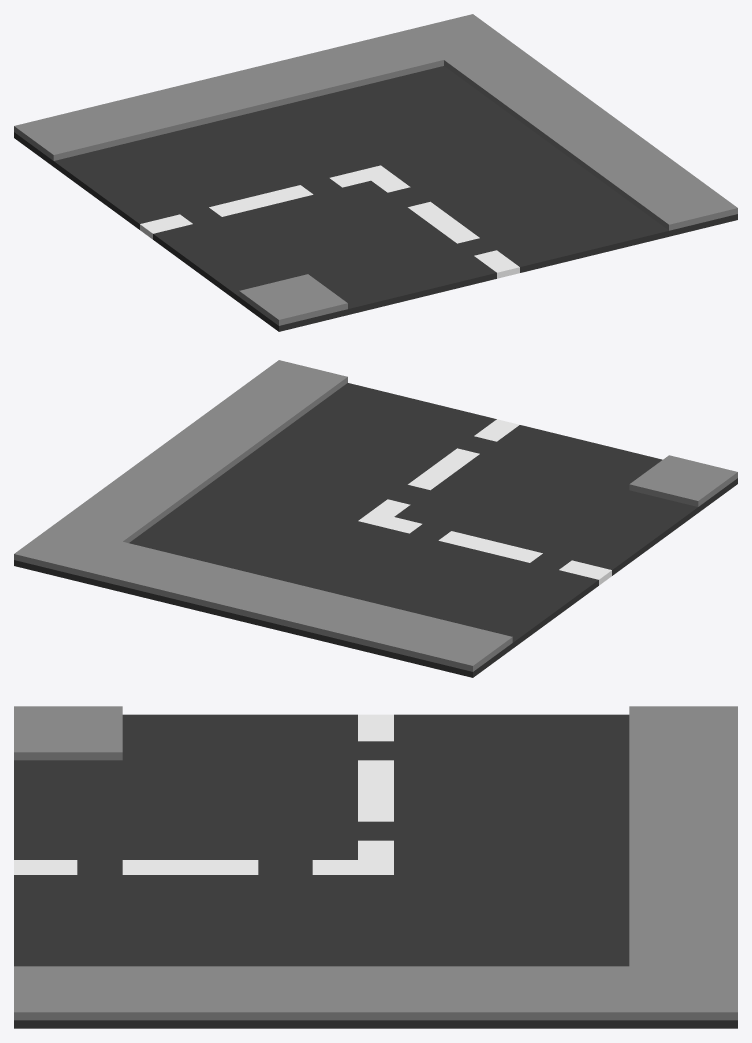
Rendered from CallecitaCurva.obj.
3 renders of one model, top to bottom at view 1: azimuth 30°, elevation 25°; view 2: azimuth 150°, elevation 25°; view 3: azimuth 270°, elevation 25°, orthographic. The views are drawn at different scales.
Bounding box in the file's own units: 8 × 0.2 × 8.
Materials: 1 (1 with a texture image).
